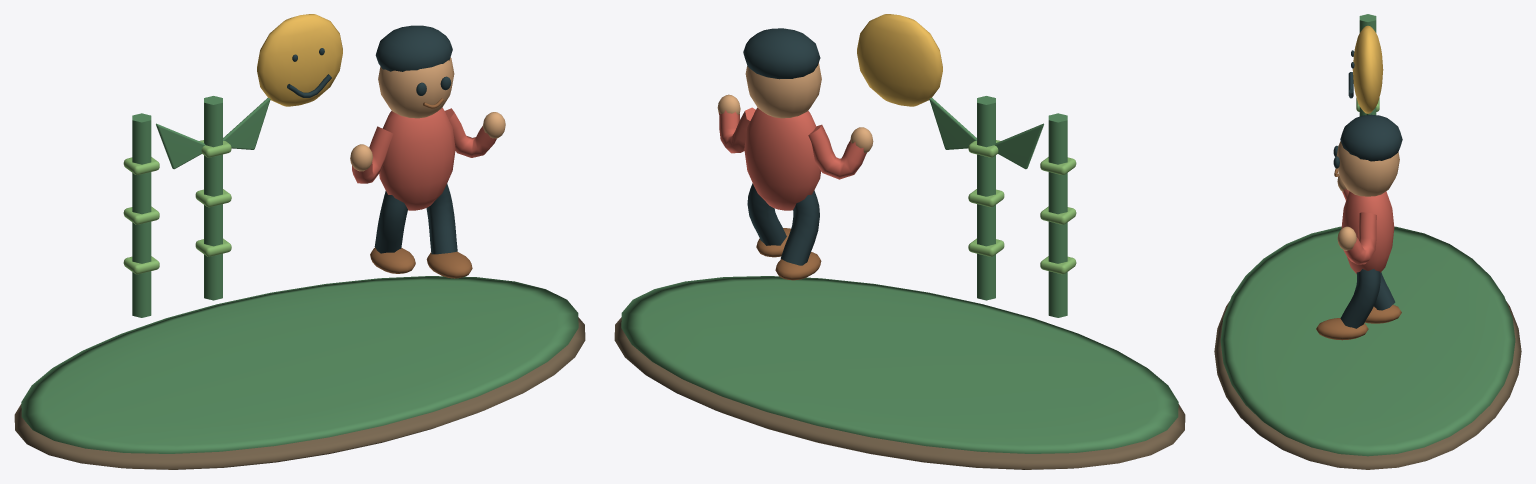
The model's file is complete-first-laughing-bamboo.glb.
The picture shows the model from 3 angles, left to right: view 1: azimuth 30°, elevation 25°; view 2: azimuth 150°, elevation 25°; view 3: azimuth 270°, elevation 25°; orthographic projection. The views are drawn at different scales.
Parts seen in each view (by area): view 1: complete-first-laughing-bamboo_surface_01, complete-first-laughing-bamboo_surface_00, complete-first-laughing-bamboo_surface_06, complete-first-laughing-bamboo_surface_04, complete-first-laughing-bamboo_surface_07, complete-first-laughing-bamboo_surface_03, complete-first-laughing-bamboo_surface_02, complete-first-laughing-bamboo_surface_05; view 2: complete-first-laughing-bamboo_surface_01, complete-first-laughing-bamboo_surface_00, complete-first-laughing-bamboo_surface_06, complete-first-laughing-bamboo_surface_04, complete-first-laughing-bamboo_surface_07, complete-first-laughing-bamboo_surface_03, complete-first-laughing-bamboo_surface_02, complete-first-laughing-bamboo_surface_05; view 3: complete-first-laughing-bamboo_surface_01, complete-first-laughing-bamboo_surface_00, complete-first-laughing-bamboo_surface_04, complete-first-laughing-bamboo_surface_06, complete-first-laughing-bamboo_surface_03, complete-first-laughing-bamboo_surface_07, complete-first-laughing-bamboo_surface_05.
Boxes of the visible parts, x1=… form: complete-first-laughing-bamboo_surface_01: x1=21, y1=96, x2=578, y2=453; complete-first-laughing-bamboo_surface_00: x1=14, y1=317, x2=585, y2=469; complete-first-laughing-bamboo_surface_06: x1=352, y1=107, x2=496, y2=210; complete-first-laughing-bamboo_surface_04: x1=287, y1=25, x2=457, y2=254; complete-first-laughing-bamboo_surface_07: x1=257, y1=14, x2=342, y2=106; complete-first-laughing-bamboo_surface_03: x1=350, y1=57, x2=505, y2=171; complete-first-laughing-bamboo_surface_02: x1=123, y1=140, x2=231, y2=274; complete-first-laughing-bamboo_surface_05: x1=370, y1=98, x2=472, y2=278; complete-first-laughing-bamboo_surface_01: x1=621, y1=96, x2=1178, y2=453; complete-first-laughing-bamboo_surface_00: x1=614, y1=317, x2=1185, y2=469; complete-first-laughing-bamboo_surface_06: x1=719, y1=107, x2=866, y2=210; complete-first-laughing-bamboo_surface_04: x1=743, y1=28, x2=820, y2=265; complete-first-laughing-bamboo_surface_07: x1=857, y1=14, x2=942, y2=106; complete-first-laughing-bamboo_surface_03: x1=717, y1=63, x2=873, y2=152; complete-first-laughing-bamboo_surface_02: x1=968, y1=140, x2=1076, y2=274; complete-first-laughing-bamboo_surface_05: x1=756, y1=228, x2=821, y2=280; complete-first-laughing-bamboo_surface_01: x1=1220, y1=14, x2=1515, y2=456; complete-first-laughing-bamboo_surface_00: x1=1214, y1=301, x2=1521, y2=469; complete-first-laughing-bamboo_surface_04: x1=1333, y1=50, x2=1402, y2=328; complete-first-laughing-bamboo_surface_06: x1=1341, y1=189, x2=1394, y2=273; complete-first-laughing-bamboo_surface_03: x1=1336, y1=141, x2=1399, y2=250; complete-first-laughing-bamboo_surface_07: x1=1352, y1=25, x2=1383, y2=113; complete-first-laughing-bamboo_surface_05: x1=1316, y1=168, x2=1401, y2=340.
Bounding box in the file's own units: 4.56 × 3.02 × 2.5.
